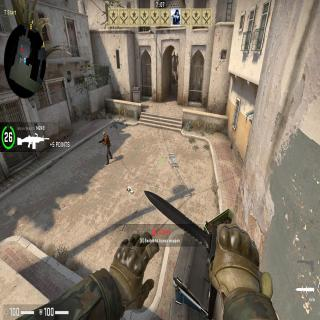T-Body: (101, 132, 112, 166)
T-Head: (102, 132, 106, 137)
